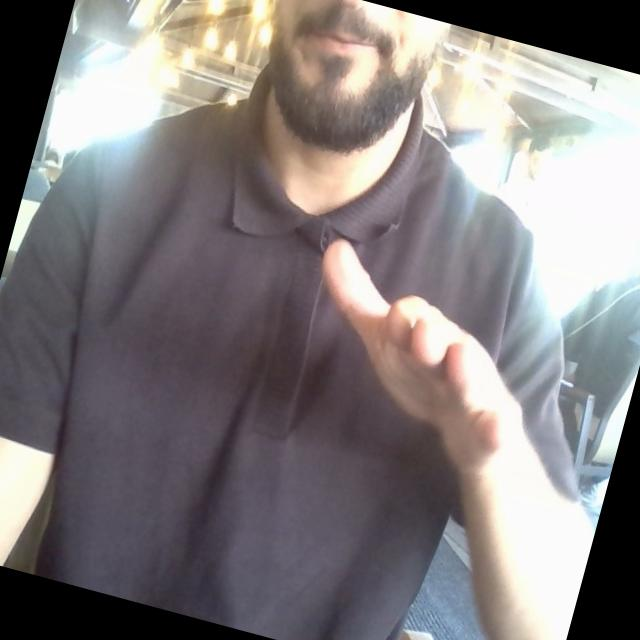Hand: (323, 241, 521, 472)
